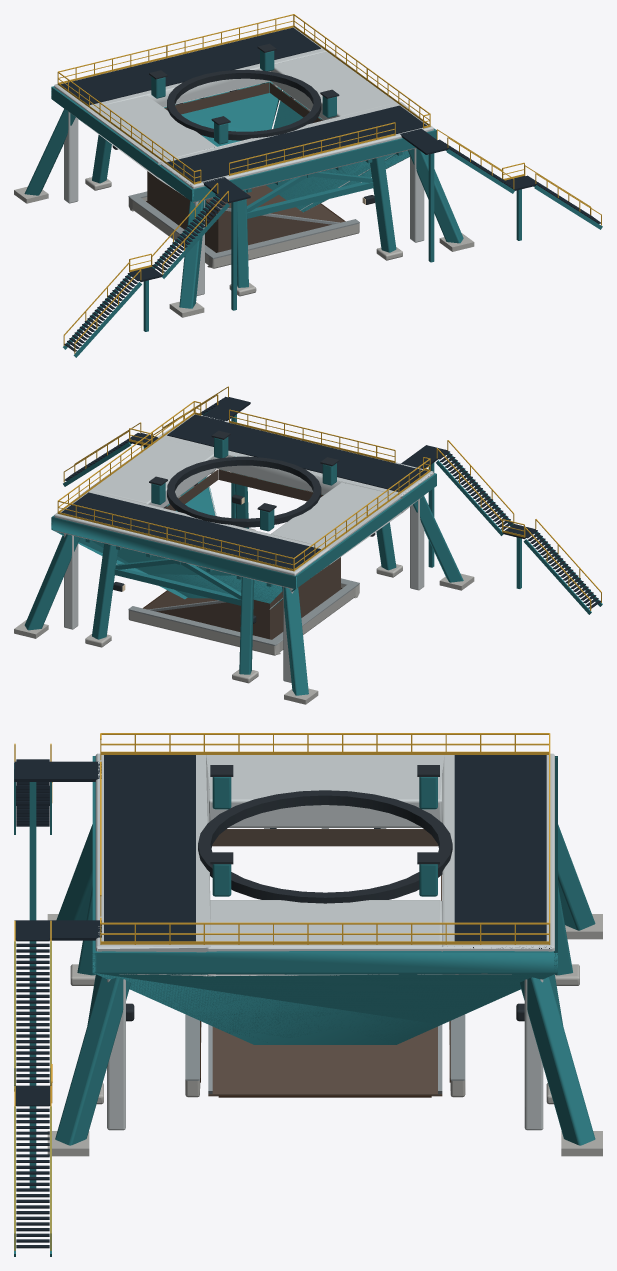
File: hero_launch_mount.fbx
3 renders of one model, top to bottom at view 1: azimuth 30°, elevation 25°; view 2: azimuth 150°, elevation 25°; view 3: azimuth 270°, elevation 25°, orthographic. The views are drawn at different scales.
Parts seen in each view (by area): view 1: hero_launch_mount; view 2: hero_launch_mount; view 3: hero_launch_mount.
Part boxes in pixels (bbox=[...]): hero_launch_mount: bbox=[14, 14, 602, 357]; hero_launch_mount: bbox=[14, 386, 602, 704]; hero_launch_mount: bbox=[14, 733, 602, 1256].
Size of the model in its own units: 48.2 by 13.91 by 28.21.
